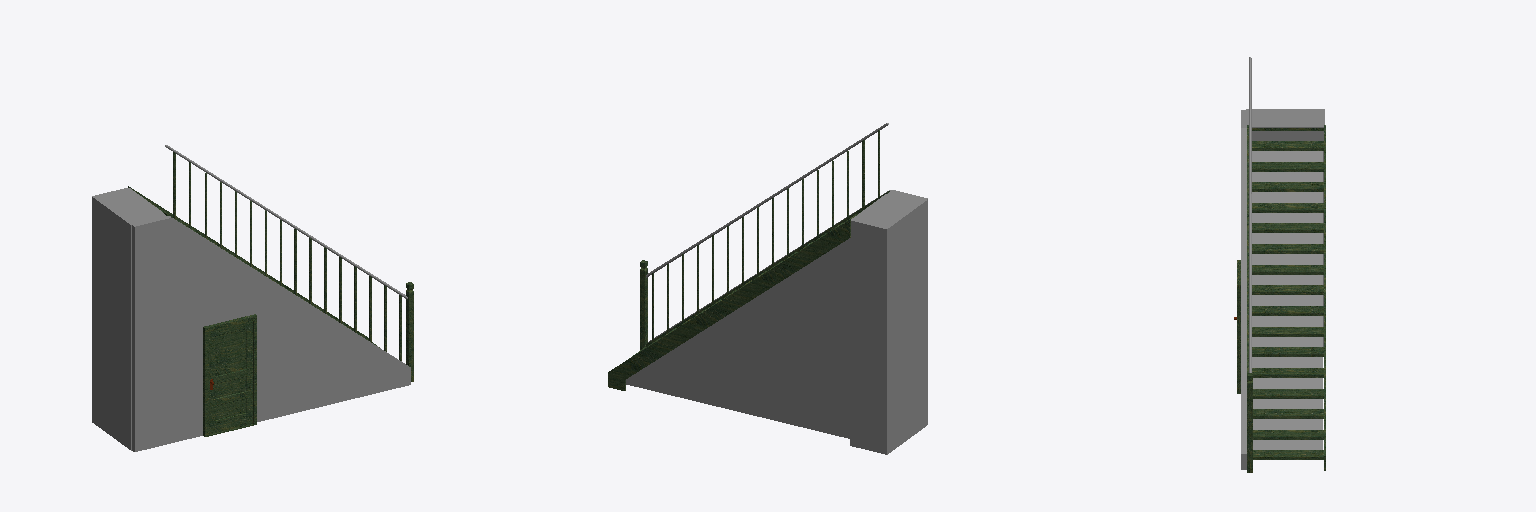
The picture shows the model from 3 angles: view 1: azimuth 30°, elevation 25°; view 2: azimuth 150°, elevation 25°; view 3: azimuth 270°, elevation 25°; orthographic projection.
Parts seen in each view (by area): view 1: Box002, Box004, Box006, door, Box003, aldoor, Box007, StraightStair001_LeftRail, Box001, Object001; view 2: Box005, Box004, Object001, StraightStair001_LeftRail, Box001; view 3: StraightStair001, Box005, Box004, Box002, Object001, StraightStair001_LeftRail, Box001, aldoor.
Part boxes in pixels (left/top/right/bottom): Box002: left=170, top=216, right=410, bottom=426; Box004: left=92, top=188, right=167, bottom=450; Box006: left=132, top=216, right=171, bottom=451; door: left=209, top=321, right=252, bottom=433; Box003: left=172, top=368, right=410, bottom=442; aldoor: left=203, top=314, right=256, bottom=436; Box007: left=215, top=329, right=245, bottom=375; StraightStair001_LeftRail: left=165, top=145, right=407, bottom=298; Box001: left=406, top=282, right=413, bottom=381; Object001: left=128, top=186, right=368, bottom=340; Box005: left=626, top=238, right=849, bottom=438; Box004: left=850, top=191, right=926, bottom=454; Object001: left=608, top=191, right=889, bottom=390; StraightStair001_LeftRail: left=646, top=123, right=888, bottom=277; Box001: left=640, top=260, right=647, bottom=349; StraightStair001: left=1252, top=128, right=1323, bottom=459; Box005: left=1252, top=151, right=1322, bottom=449; Box004: left=1246, top=109, right=1324, bottom=346; Box002: left=1241, top=128, right=1246, bottom=453; Object001: left=1247, top=125, right=1325, bottom=470; StraightStair001_LeftRail: left=1249, top=57, right=1251, bottom=372; Box001: left=1247, top=373, right=1252, bottom=472; aldoor: left=1237, top=260, right=1240, bottom=393.
Size of the model in its own units: 397 by 395 by 112.
5 materials, 1 textured.